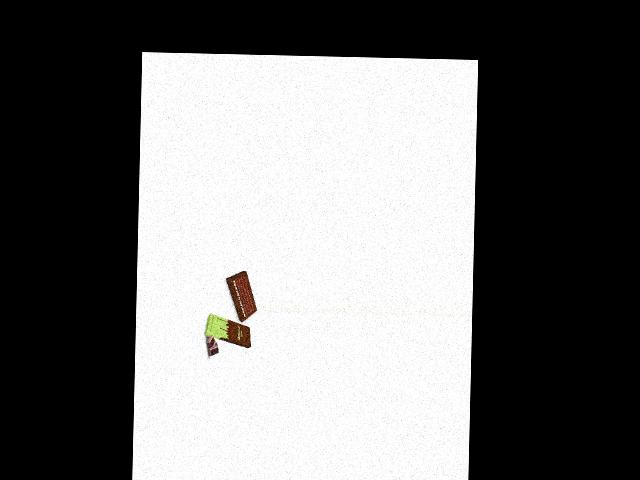chocolate: (202, 315, 252, 344)
